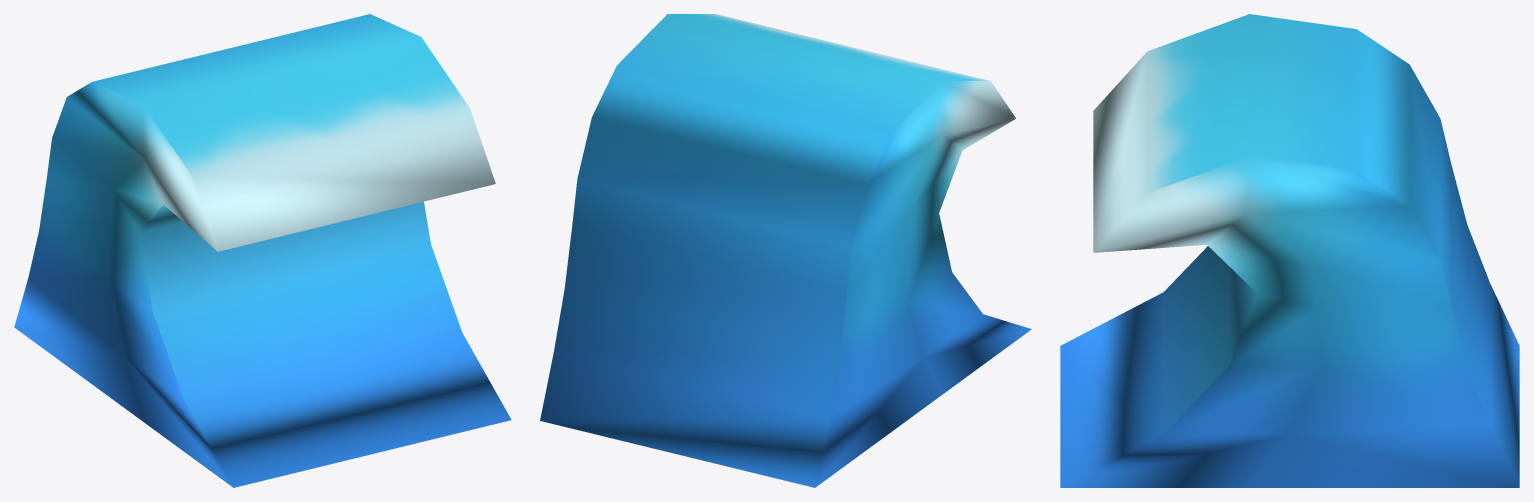
Rendered from ToadWaveSegment_MESH.fbx.
3 views of the same model, side by side, from view 1: azimuth 30°, elevation 25°; view 2: azimuth 150°, elevation 25°; view 3: azimuth 270°, elevation 25° (orthographic). The views are drawn at different scales.
Parts seen in each view (by area): view 1: Floor_Cube1; view 2: Floor_Cube1; view 3: Floor_Cube1.
Part boxes in pixels (box(x1,y1,x2,y2)): Floor_Cube1: box(14, 14, 511, 487); Floor_Cube1: box(540, 14, 1031, 487); Floor_Cube1: box(1060, 14, 1519, 487).
Size of the model in its own units: 10 by 10.89 by 13.66.
